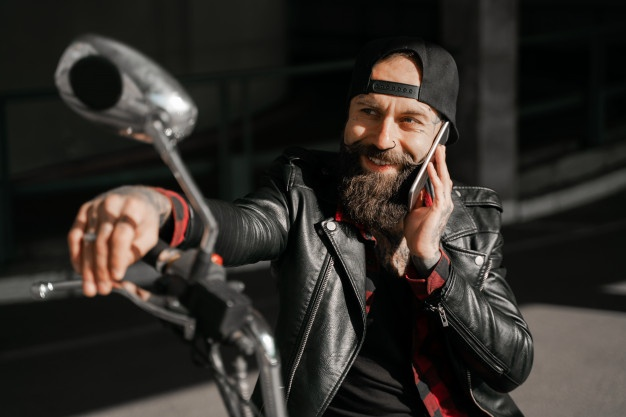su dung dien thoai: (334, 42, 455, 267)
